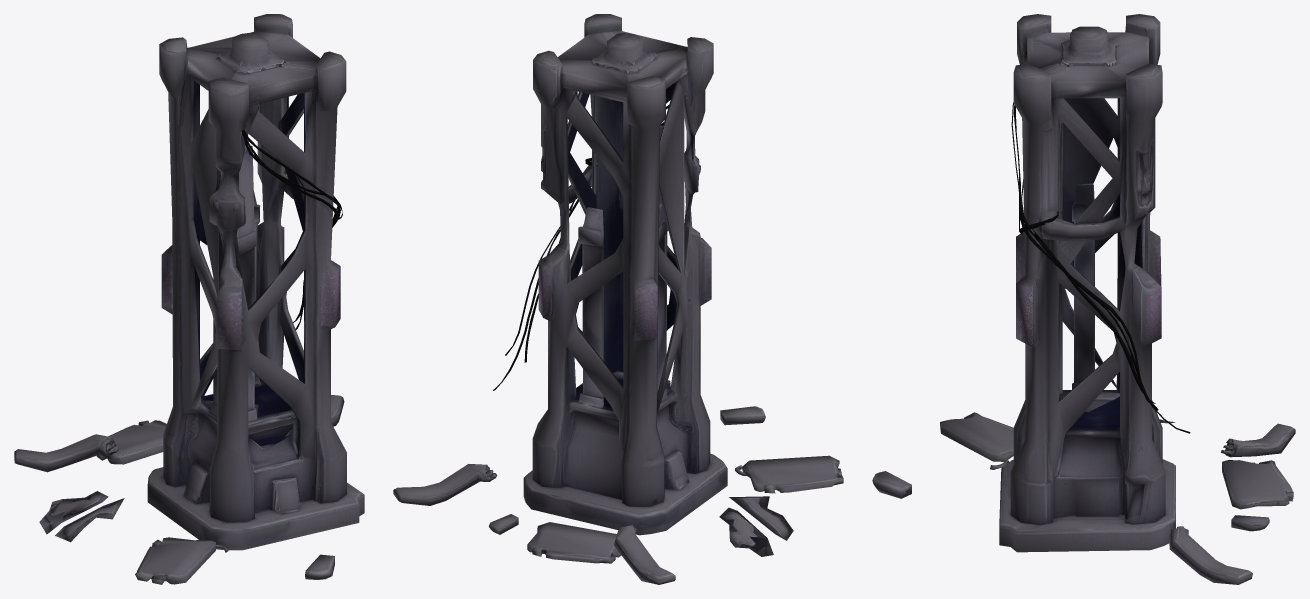
File: tripo_convert_4fe20f6e-1c8e-42f6-9dbd-75e06f8cae65.fbx
3 renders of one model, left to right at view 1: azimuth 30°, elevation 25°; view 2: azimuth 150°, elevation 25°; view 3: azimuth 270°, elevation 25°, orthographic. The views are drawn at different scales.
Visible parts, largest first — view 1: tripo_node_4fe20f6e; view 2: tripo_node_4fe20f6e; view 3: tripo_node_4fe20f6e.
Part boxes in pixels (x1,y1,x2,y2): tripo_node_4fe20f6e: [14, 14, 364, 584]; tripo_node_4fe20f6e: [393, 14, 843, 584]; tripo_node_4fe20f6e: [872, 14, 1295, 584].
Size of the model in its own units: 0.7754 by 0.998 by 0.7949.
